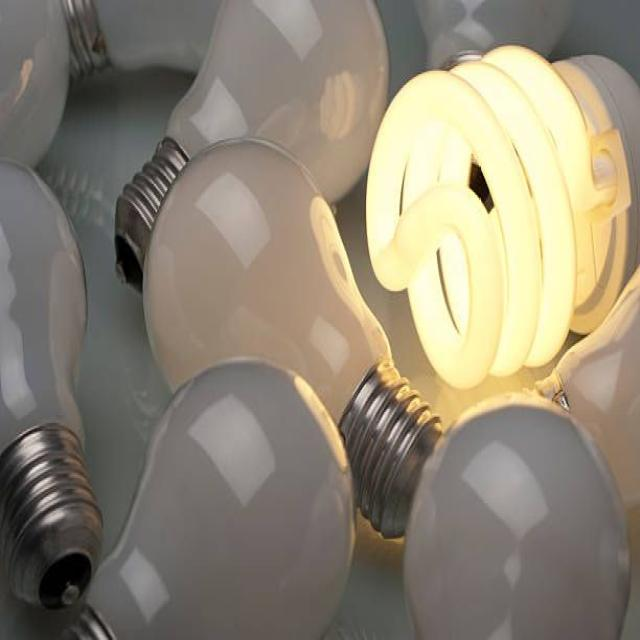electronic: (1, 1, 637, 637), (139, 134, 443, 539), (364, 42, 638, 390), (61, 357, 356, 638), (113, 0, 389, 291), (402, 387, 632, 638), (0, 156, 104, 612), (0, 0, 71, 168)
